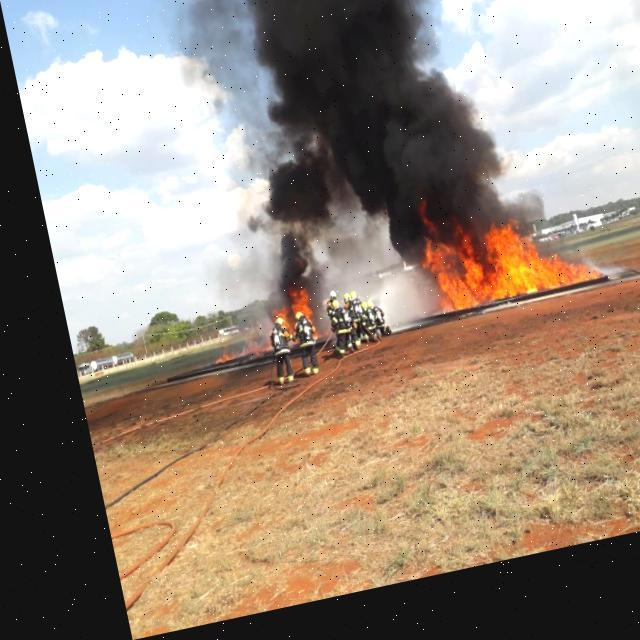Fire: (403, 219, 580, 336), (270, 297, 300, 326), (260, 316, 277, 342), (198, 357, 216, 371)
